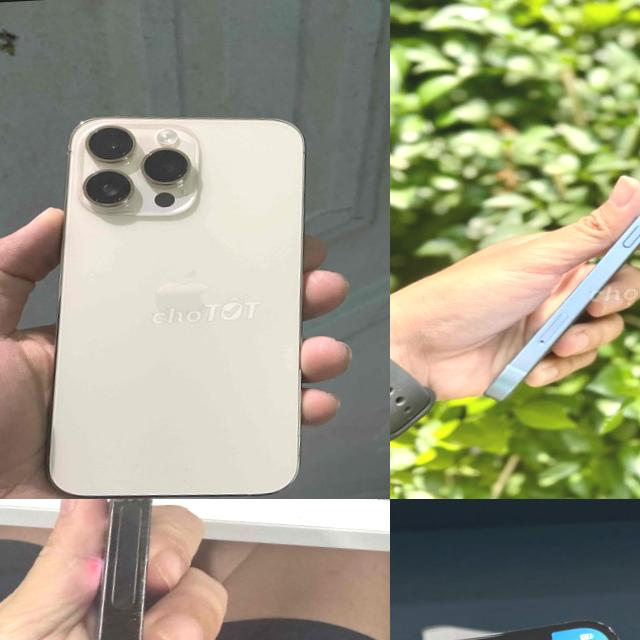scratch: (120, 550, 156, 633)
